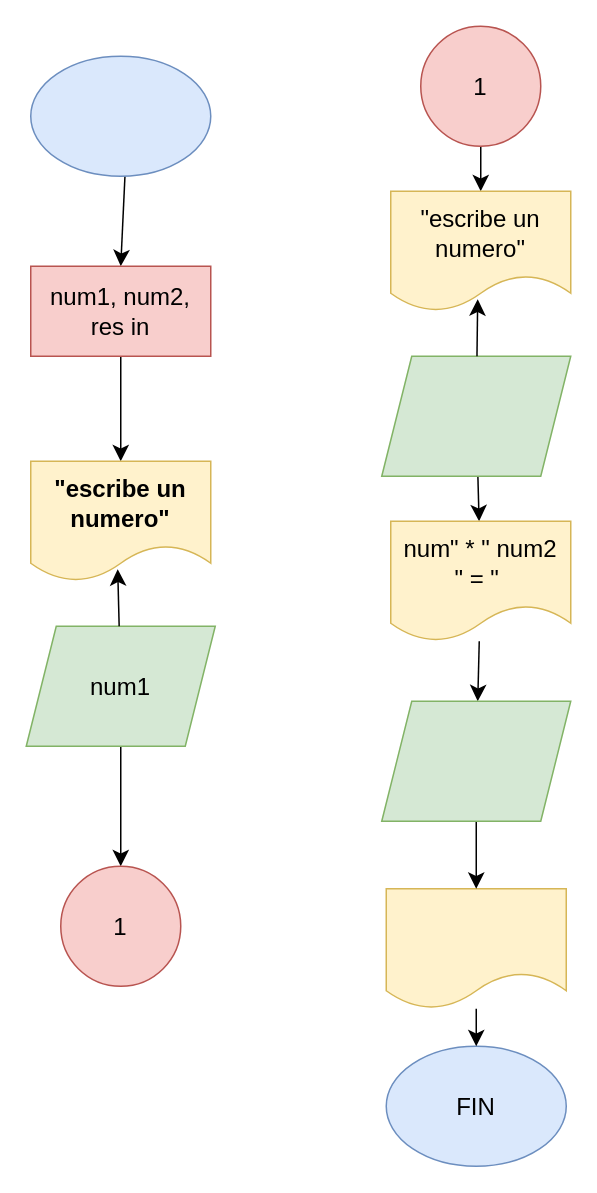
The diagram is 597 pixels wide and 1193 high, and some of its shapes have lost their labels. The shapes that lost their labels are listed below. From the top down, each one's centre as x and y in pixels, then its label:
point 120,115: INICIO
point 475,415: num2
point 475,760: res
point 475,948: "El resultado de la multiplicación es:"
